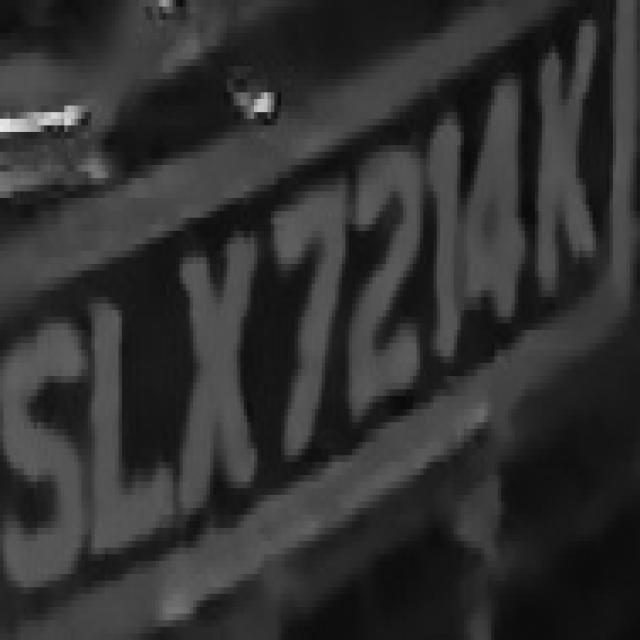1: (433, 79, 464, 383)
2: (342, 125, 430, 429)
4: (447, 46, 538, 356)
7: (268, 178, 346, 521)
K: (538, 7, 610, 304)
L: (95, 244, 183, 587)
S: (3, 297, 85, 607)
X: (163, 191, 264, 541)
